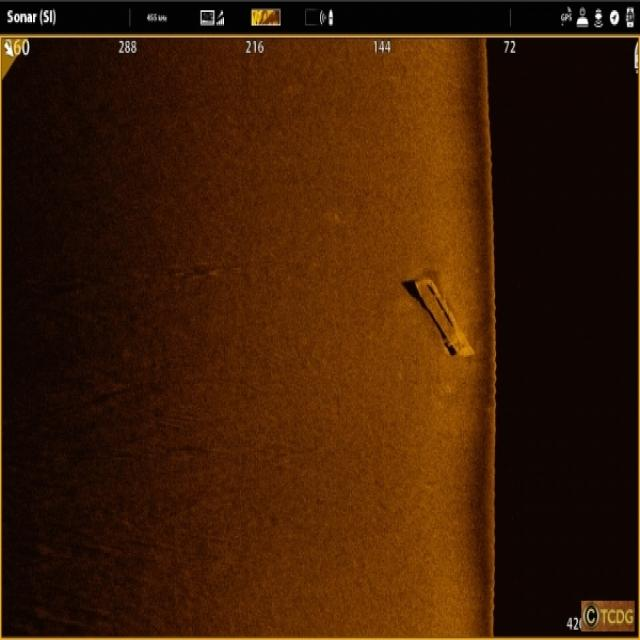ship: (408, 268, 474, 358)
